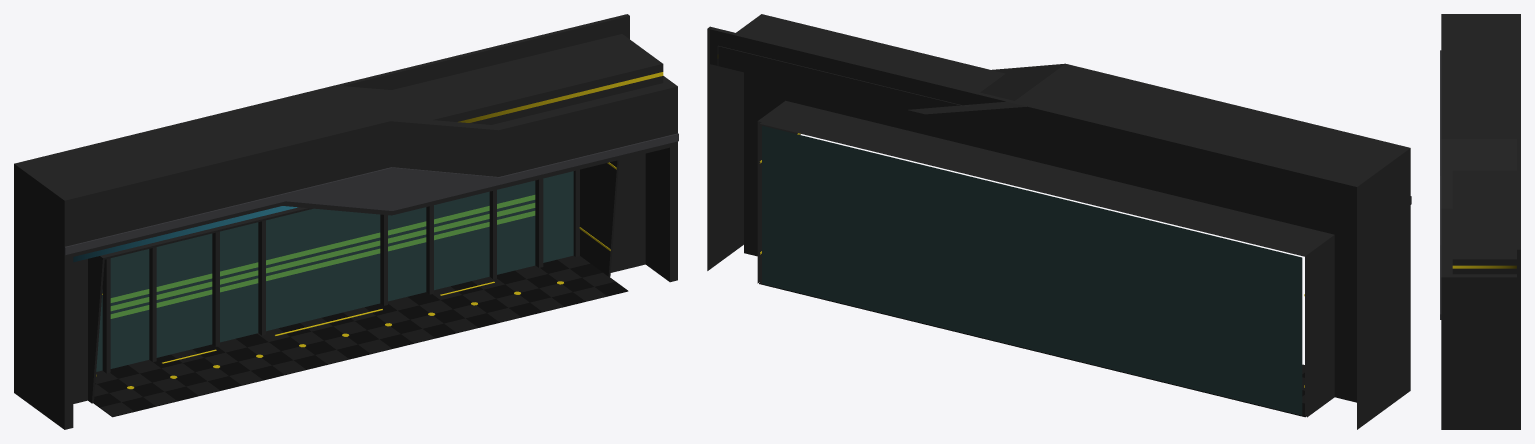
The model's file is Wall_Door_14x5x2_001_L1.fbx.
3 renders of one model, left to right at view 1: azimuth 30°, elevation 25°; view 2: azimuth 150°, elevation 25°; view 3: azimuth 270°, elevation 25°, orthographic. The views are drawn at different scales.
Visible parts, largest first — view 1: Wall_Door_14x5x2_001_L1; view 2: Wall_Door_14x5x2_001_L1; view 3: Wall_Door_14x5x2_001_L1.
Boxes of the visible parts, left/top/right/bottom form: Wall_Door_14x5x2_001_L1: left=14, top=14, right=678, bottom=429; Wall_Door_14x5x2_001_L1: left=707, top=14, right=1411, bottom=429; Wall_Door_14x5x2_001_L1: left=1440, top=14, right=1520, bottom=429.
Size of the model in its own units: 14 by 5 by 2.03.
